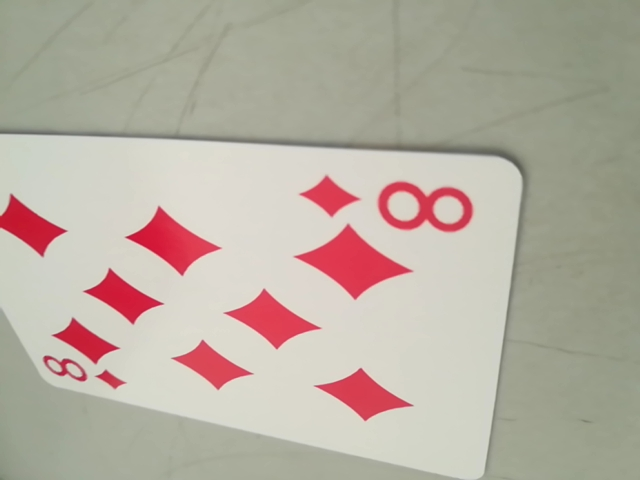fk 8: (302, 170, 480, 237), (37, 351, 126, 390)
